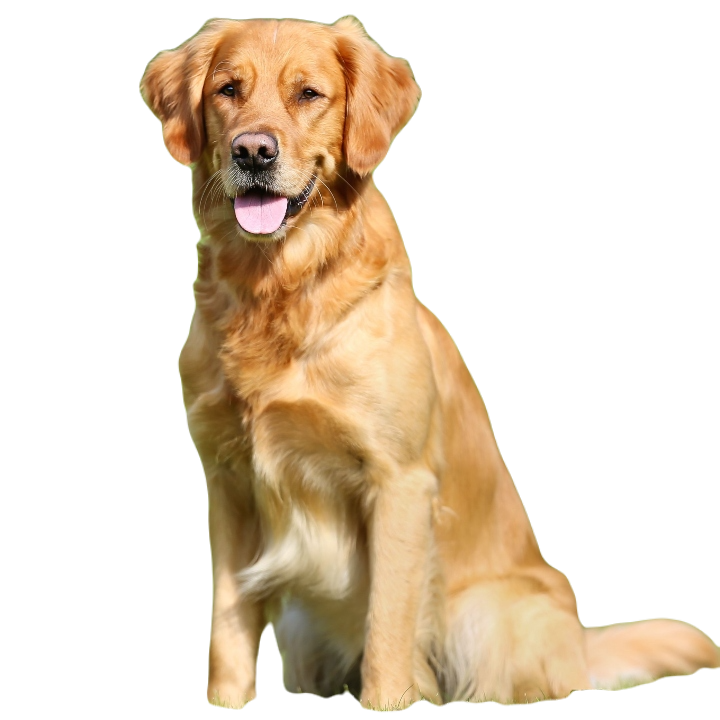Dog: (130, 13, 715, 706)
